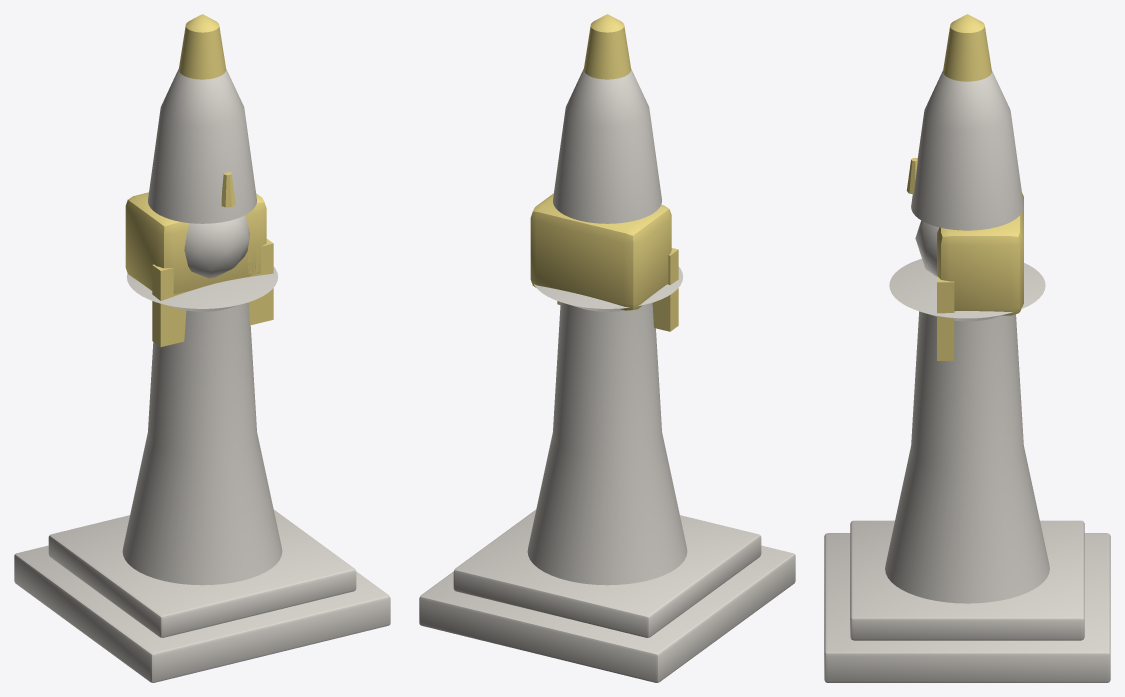
The model's file is Giza_Rey.fbx.
3 renders of one model, left to right at view 1: azimuth 30°, elevation 25°; view 2: azimuth 150°, elevation 25°; view 3: azimuth 270°, elevation 25°, orthographic. The views are drawn at different scales.
Parts seen in each view (by area): view 1: Giza_Rey; view 2: Giza_Rey; view 3: Giza_Rey.
Part boxes in pixels (box(x1,y1,x2,y2)): Giza_Rey: box(14, 14, 390, 682); Giza_Rey: box(419, 14, 795, 682); Giza_Rey: box(824, 14, 1110, 682).
Size of the model in its own units: 0.66 by 1.55 by 0.66.
